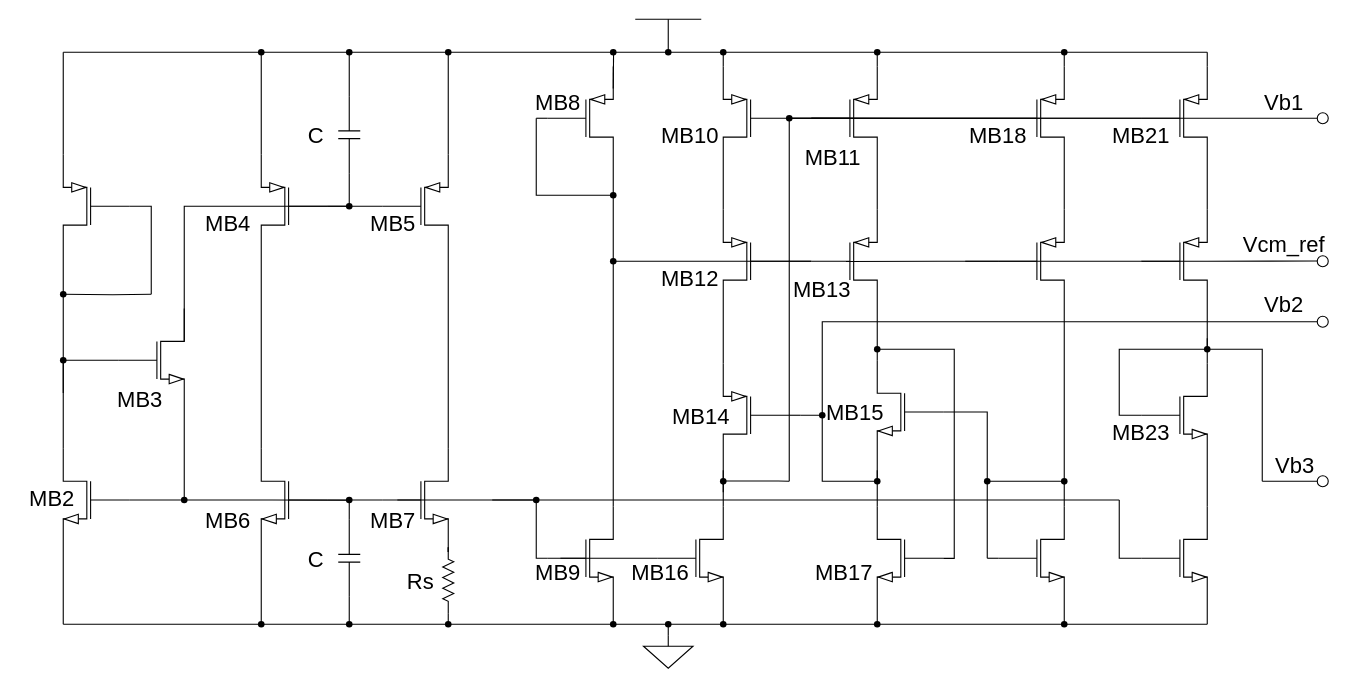
The diagram is 1357 pixels wide and 688 high, and some of its shapes have lost their labels. Here are the shapes that lost their labels. From the top down, the box of each, then its label:
(62, 150, 129, 261): MB1
(997, 205, 1064, 316): MB19
(1140, 205, 1207, 316): MB22
(997, 502, 1064, 613): MB20
(1140, 502, 1207, 613): MB24
